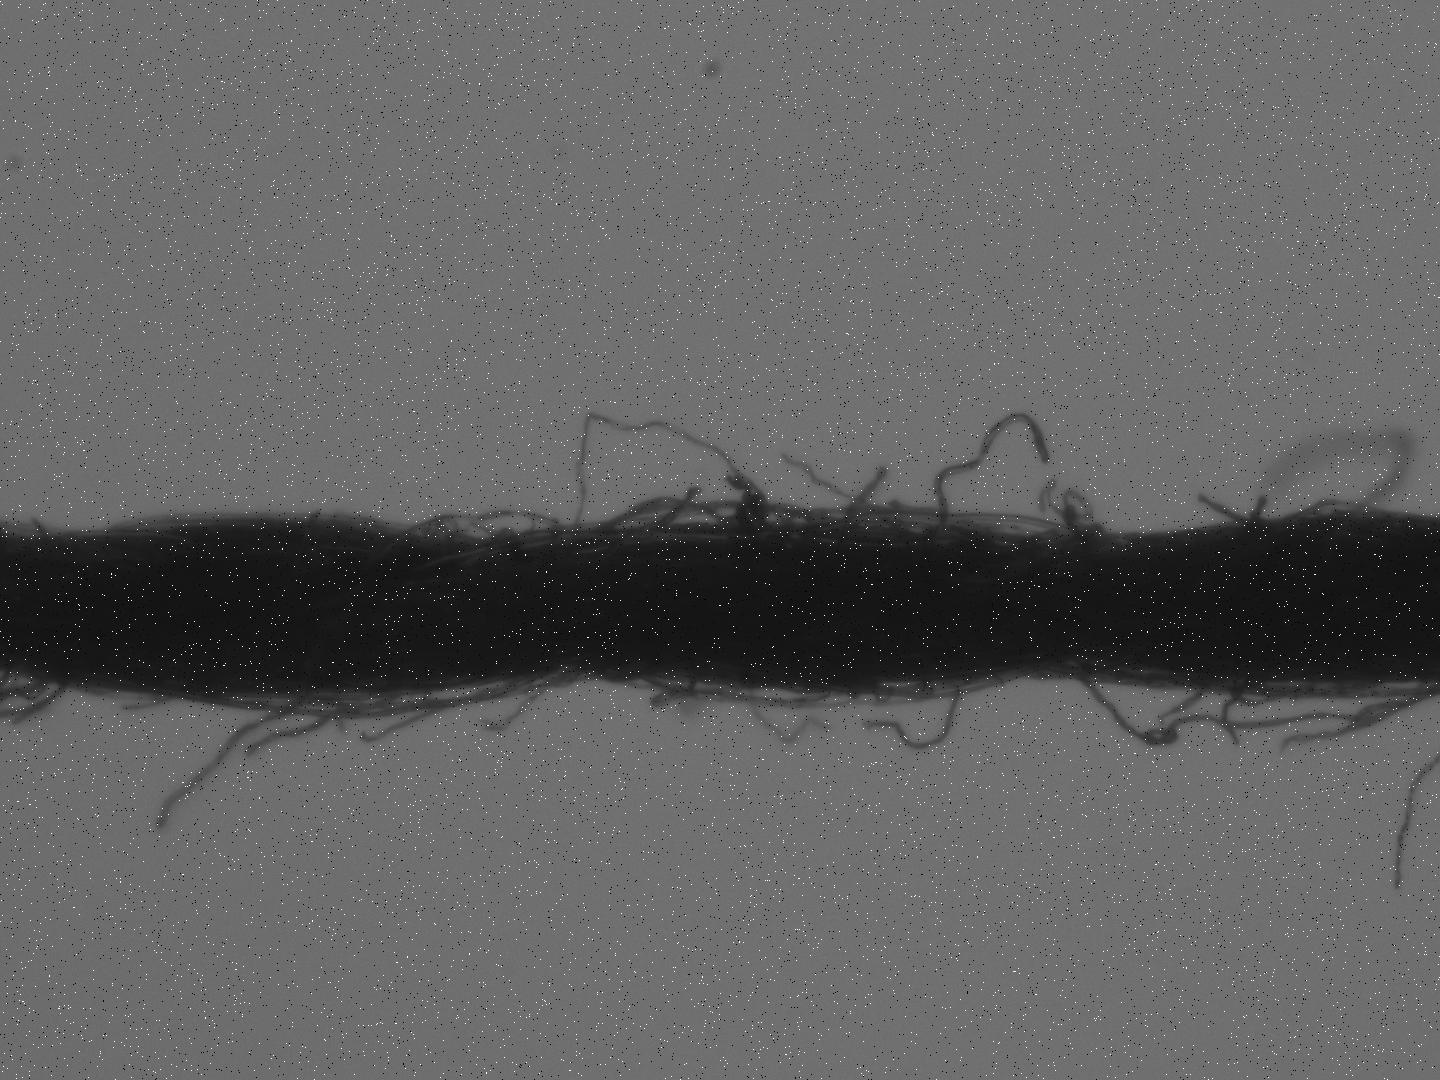loop_fiber: (569, 407, 786, 560), (334, 506, 571, 600), (1058, 661, 1261, 759), (225, 672, 536, 719), (795, 508, 1108, 543), (593, 491, 739, 538), (799, 672, 1028, 701), (646, 681, 746, 706)
protruding_fiber: (156, 697, 291, 843), (858, 691, 971, 757)
